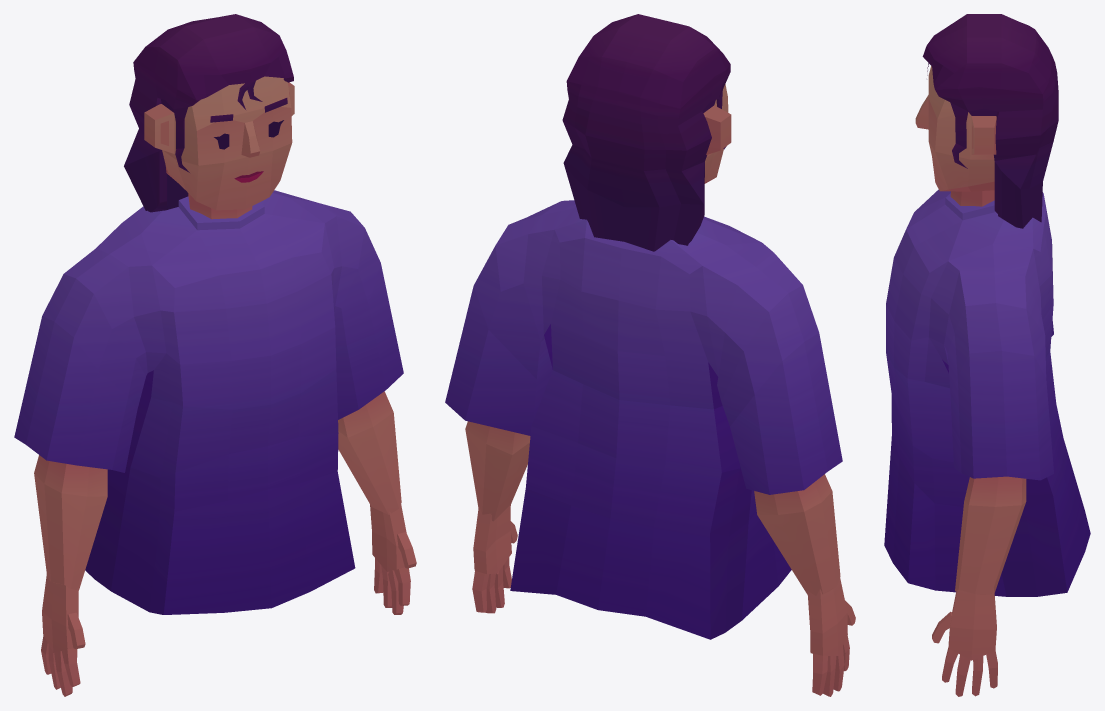
The model's file is Girl_Blue.glb.
3 renders of one model, left to right at view 1: azimuth 30°, elevation 25°; view 2: azimuth 150°, elevation 25°; view 3: azimuth 270°, elevation 25°, orthographic. The views are drawn at different scales.
Visible parts, largest first — view 1: Girl_Blue; view 2: Girl_Blue; view 3: Girl_Blue.
Part boxes in pixels (box(x1,y1,x2,y2)): Girl_Blue: box(14, 14, 416, 696); Girl_Blue: box(445, 14, 855, 696); Girl_Blue: box(884, 14, 1090, 696).
Bounding box in the file's own units: 2.43 × 3.95 × 1.25.
1 material, 1 textured.
